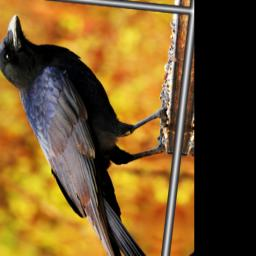Crow: (0, 11, 180, 256)
